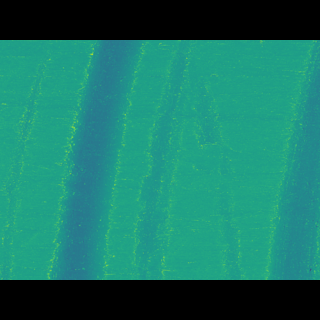Loch: (134, 69, 247, 249), (44, 70, 149, 250), (266, 68, 320, 250), (0, 77, 55, 249)
